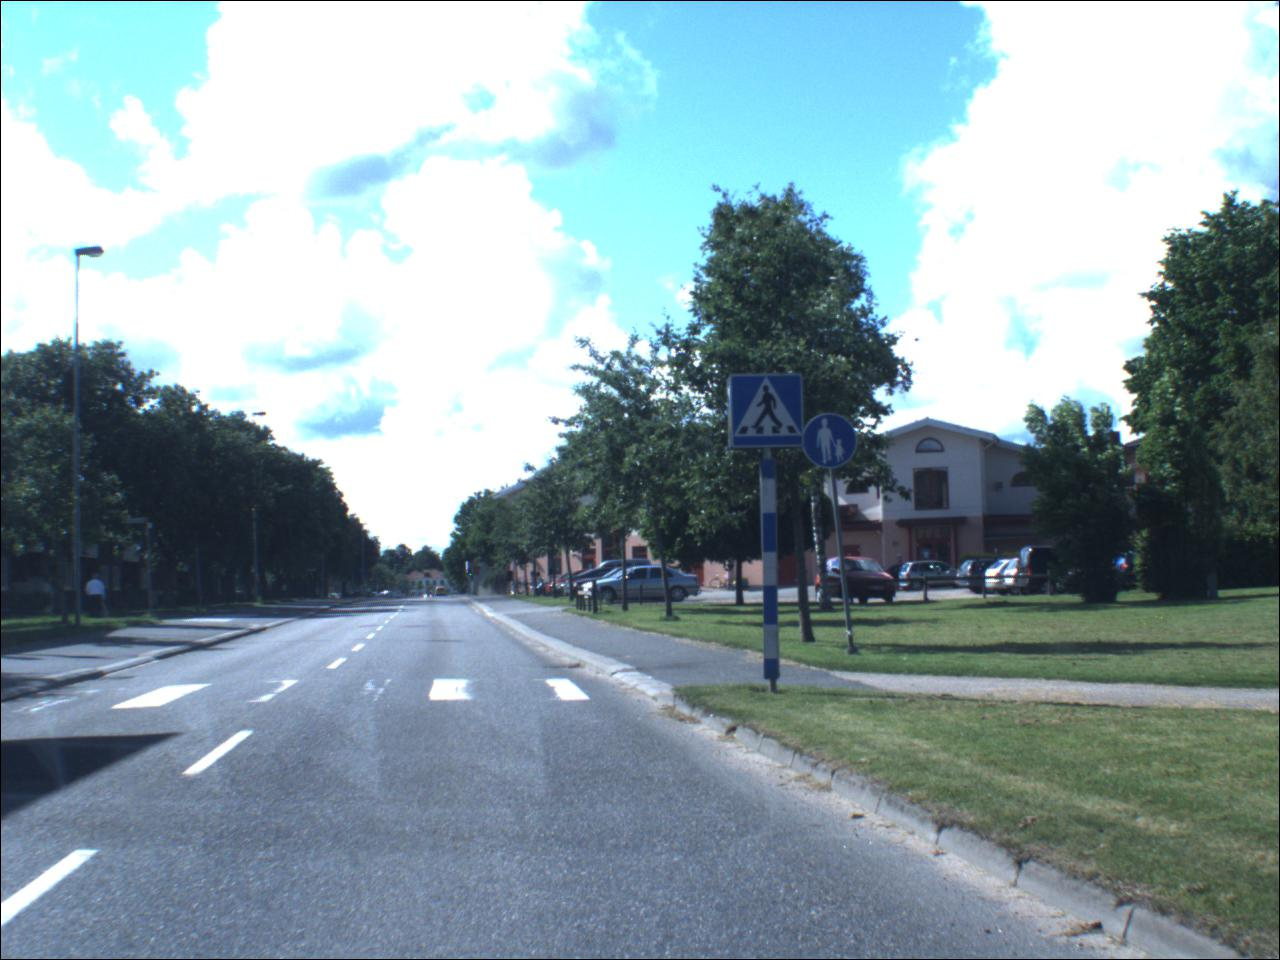PEDESTRIAN_CROSSING: (731, 377, 808, 448)
